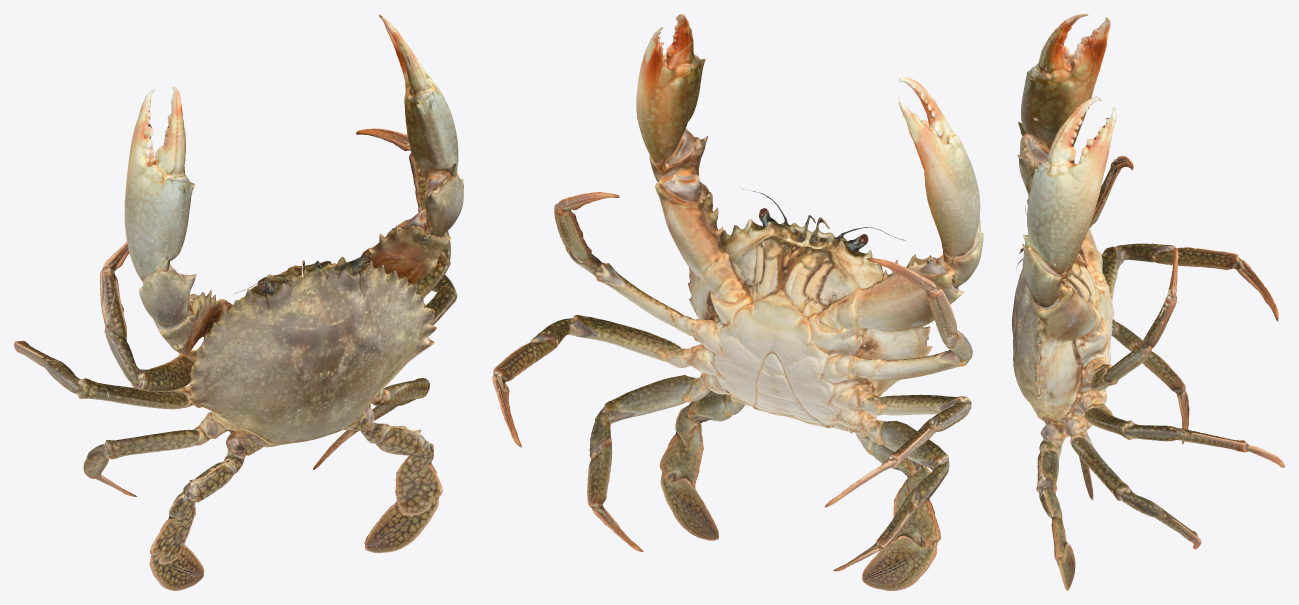
The model's file is scylla_serrata_male.glb.
3 views of the same model, side by side, from view 1: azimuth 30°, elevation 25°; view 2: azimuth 150°, elevation 25°; view 3: azimuth 270°, elevation 25° (orthographic). The views are drawn at different scales.
Parts seen in each view (by area): view 1: Q12180-1-3-body.001_3, Q12180-1-3-ashi_4; view 2: Q12180-1-3-body.001_3, Q12180-1-3-ashi_4; view 3: Q12180-1-3-body.001_3.
Part boxes in pixels (box(x1,y1,x2,y2)): Q12180-1-3-body.001_3: box(14, 14, 463, 553); Q12180-1-3-ashi_4: box(149, 431, 251, 590); Q12180-1-3-body.001_3: box(492, 14, 983, 571); Q12180-1-3-ashi_4: box(849, 428, 940, 590); Q12180-1-3-body.001_3: box(1012, 14, 1284, 590).
Size of the model in its own units: 12.6 by 15.61 by 7.83.
2 materials, 2 textured.
